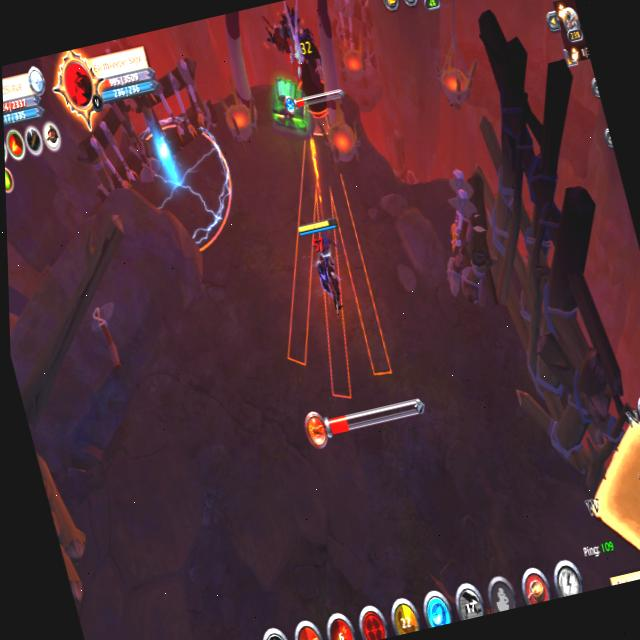ore: (257, 0, 345, 141)
red: (294, 212, 359, 318)
silver: (280, 111, 398, 406), (133, 112, 231, 249)
